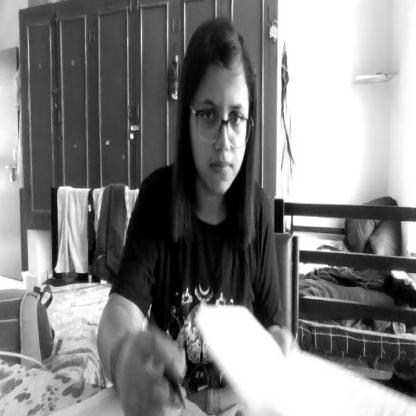Normal: (183, 26, 256, 199)
